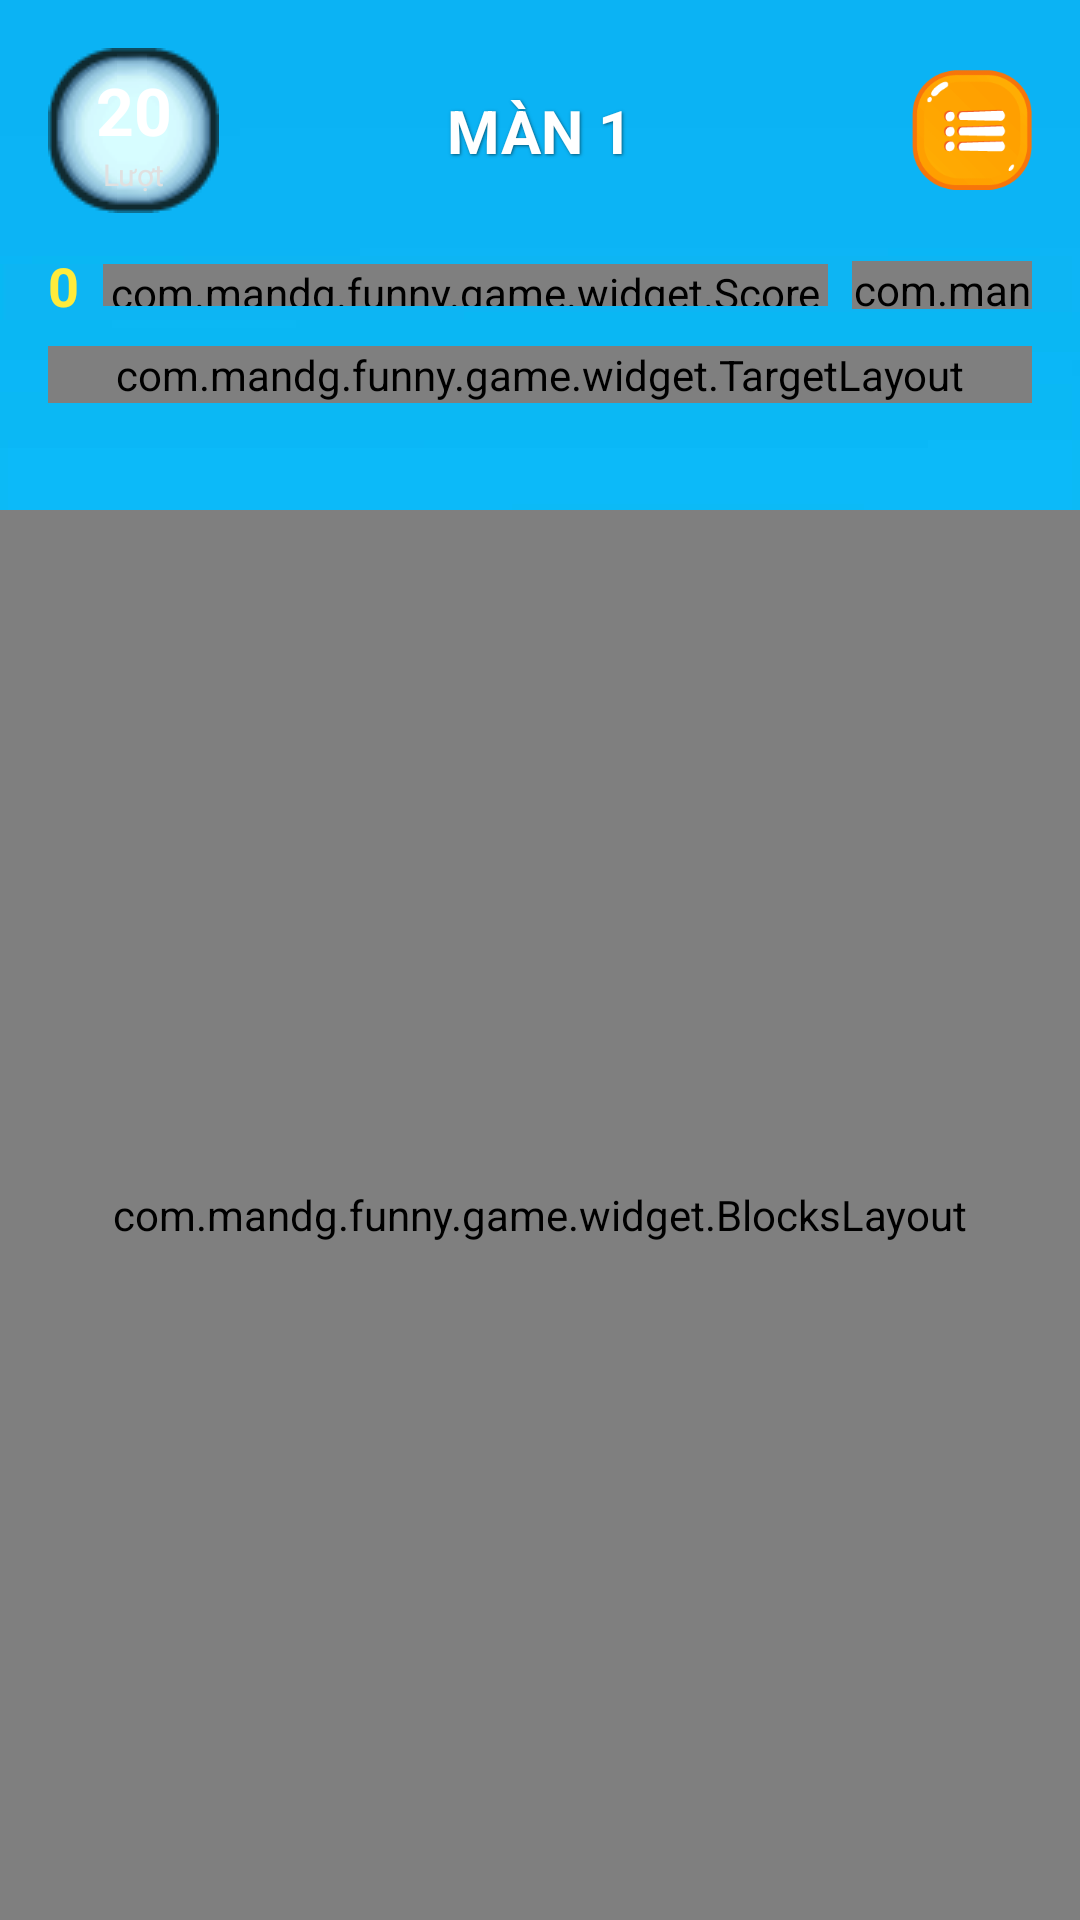

Point at icon controls on the screen. Image size 1080px x 1920px, points as point (x, y).
game menu: point (972, 130)
